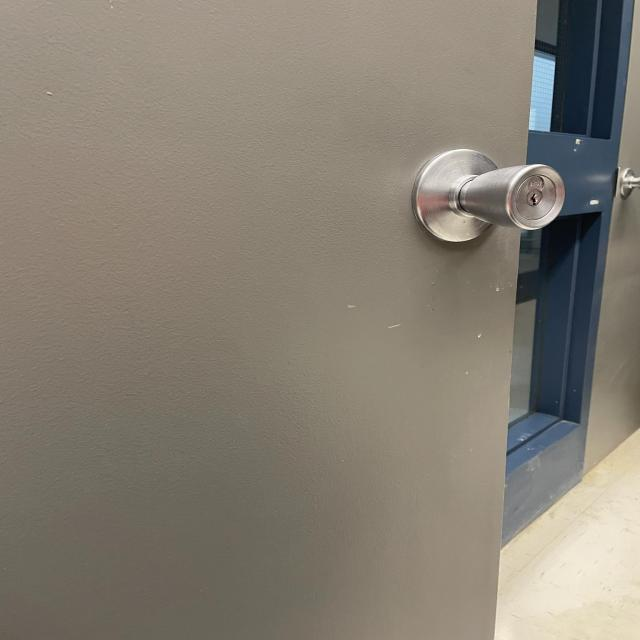door-knob: (413, 149, 565, 241), (618, 169, 640, 198)
